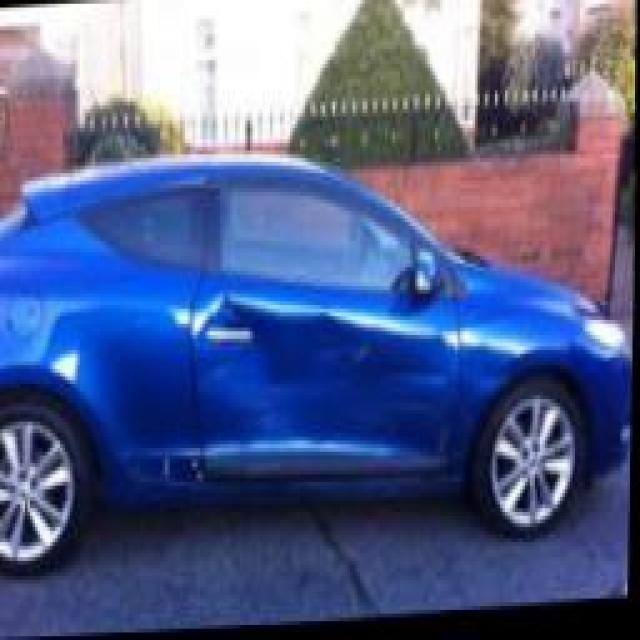replaceable: (185, 296, 351, 512)
